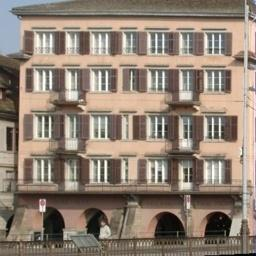building: (11, 0, 256, 247)
